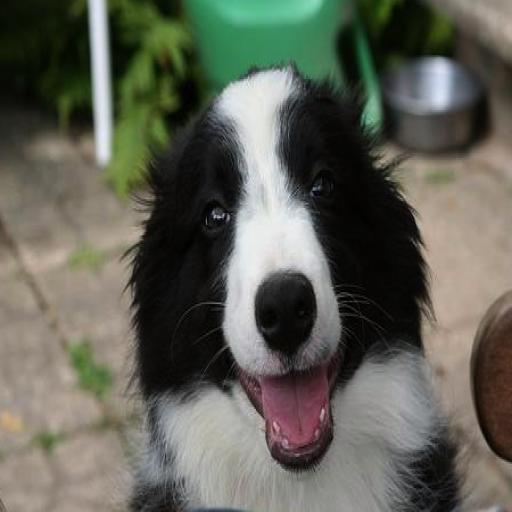dog_face: (146, 61, 423, 496)
